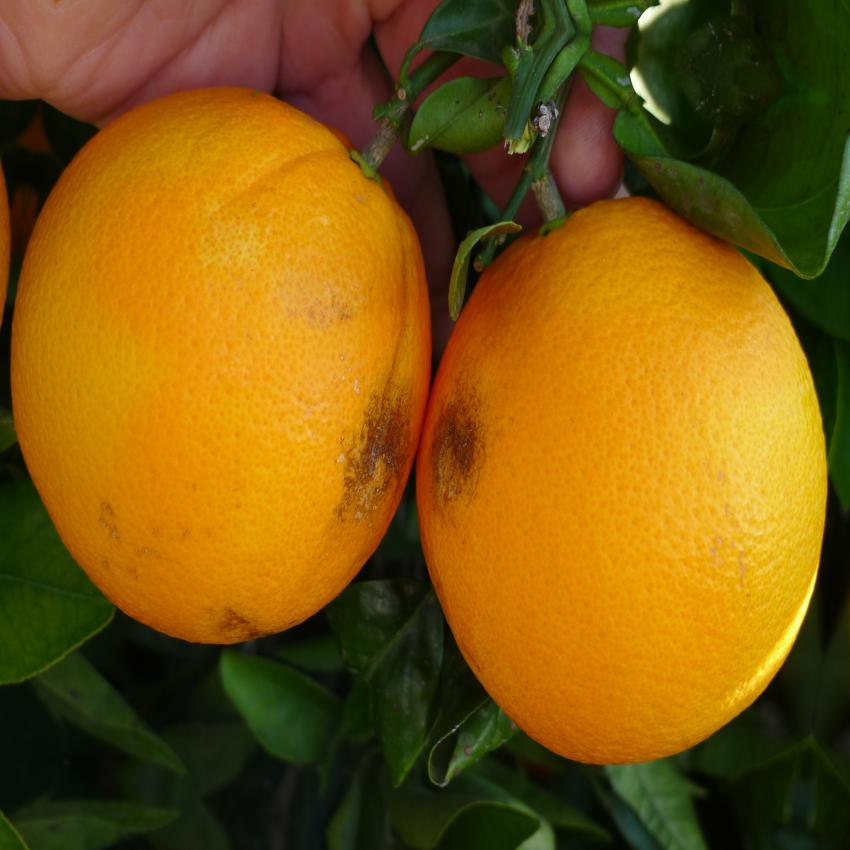Mal estado: (408, 175, 830, 784), (21, 84, 444, 667)
